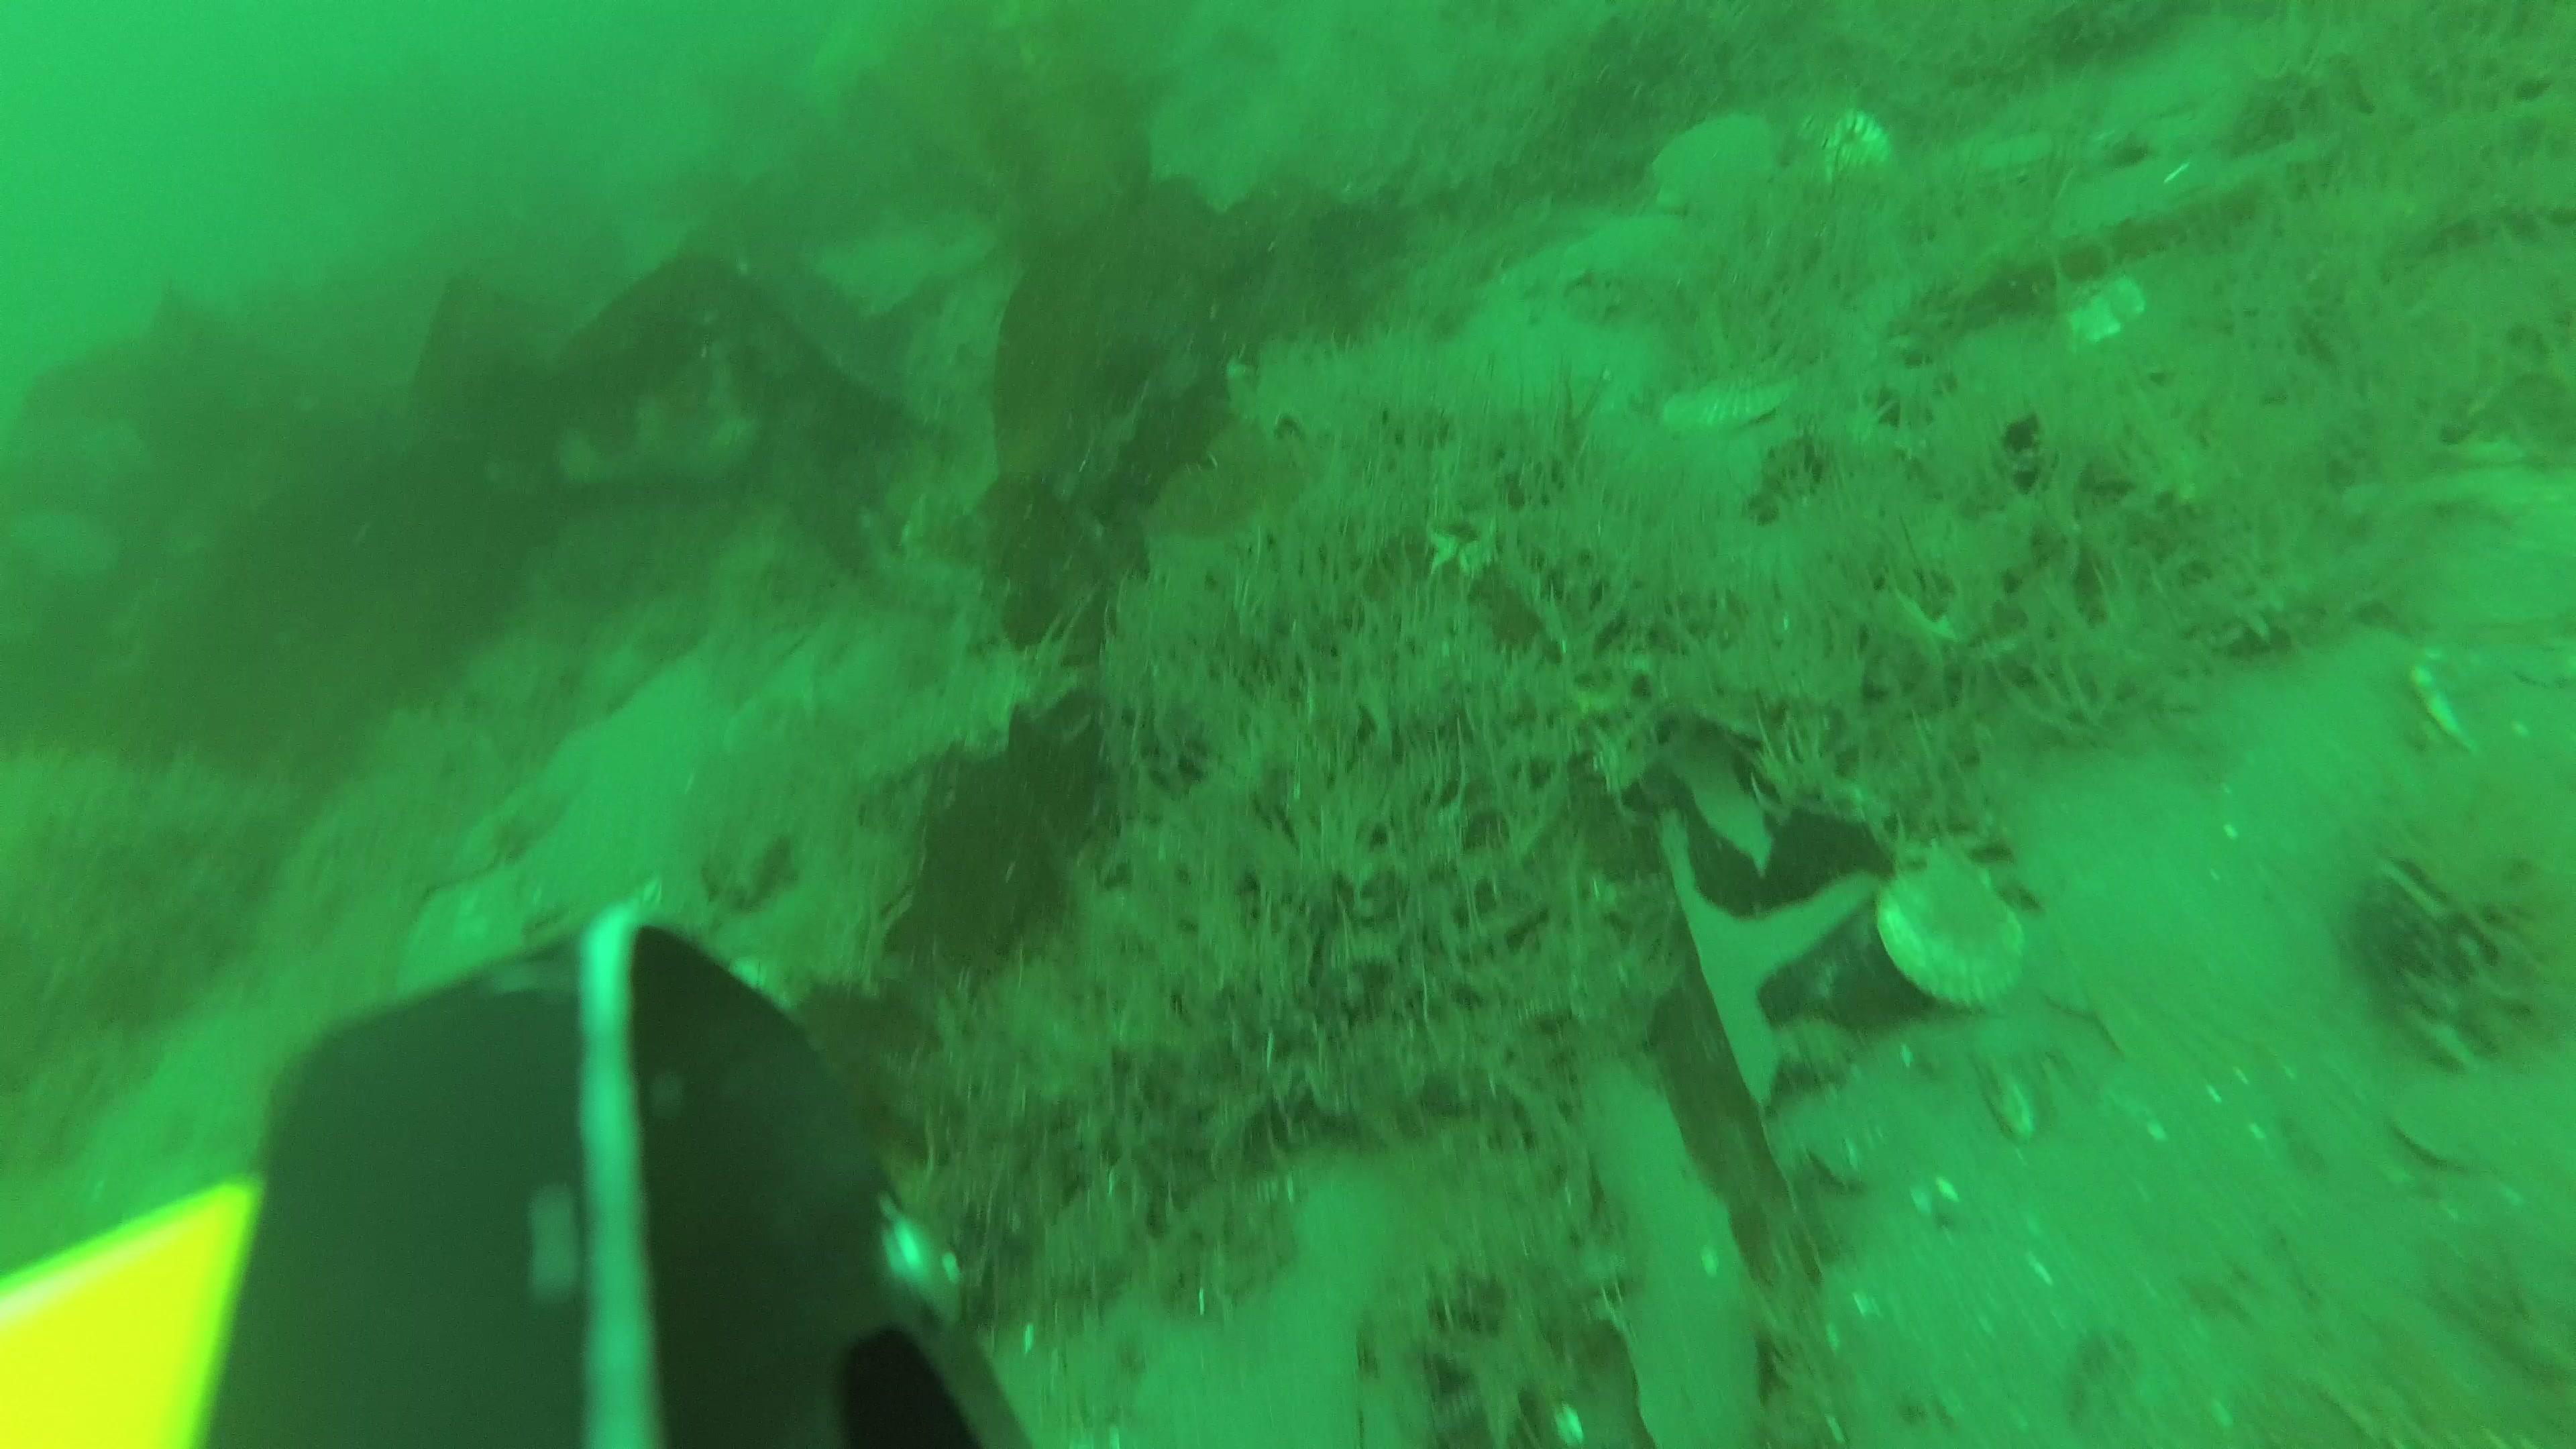scallop: (1867, 847, 2033, 1007), (1645, 117, 1798, 223), (2045, 267, 2144, 363), (1658, 375, 1796, 441), (1798, 101, 1893, 186), (1560, 216, 1670, 283)
